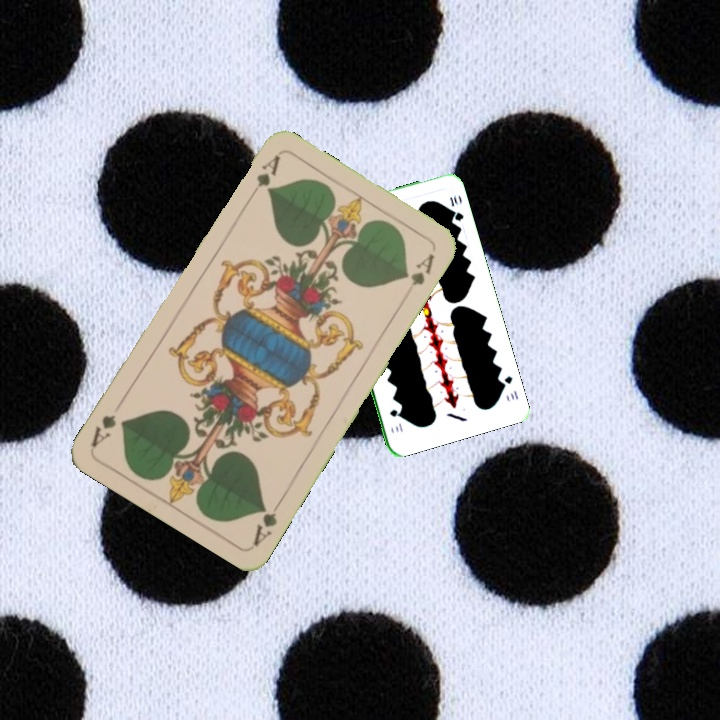G10: (496, 372, 521, 402)
GA: (243, 151, 283, 203), (249, 494, 284, 549)
